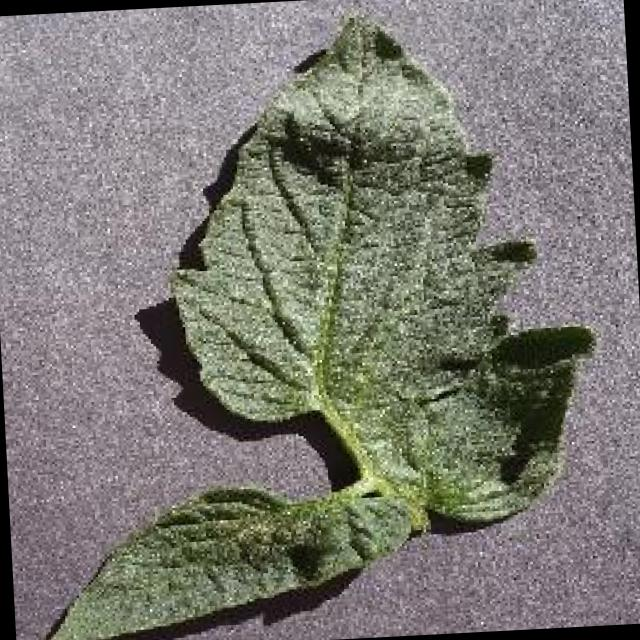Tomato_Healthy: (108, 16, 620, 584)
